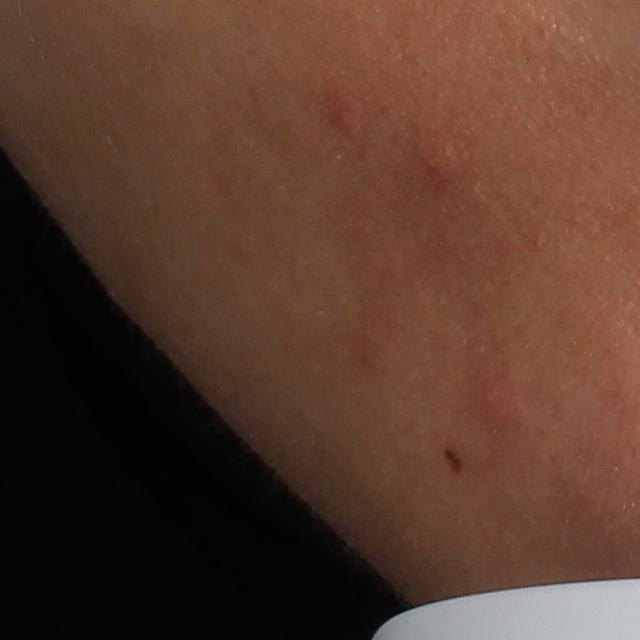nevus: (443, 445, 467, 477)
papule: (417, 133, 467, 185), (468, 370, 510, 425), (327, 98, 364, 141)
